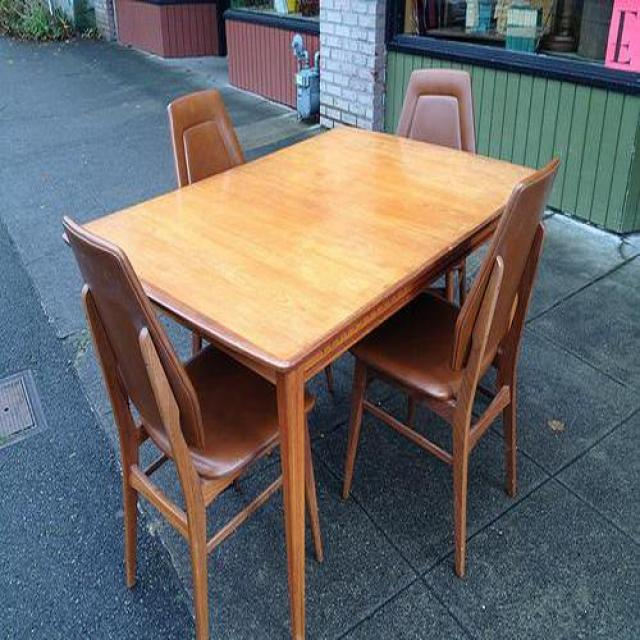table: (82, 125, 553, 640)
